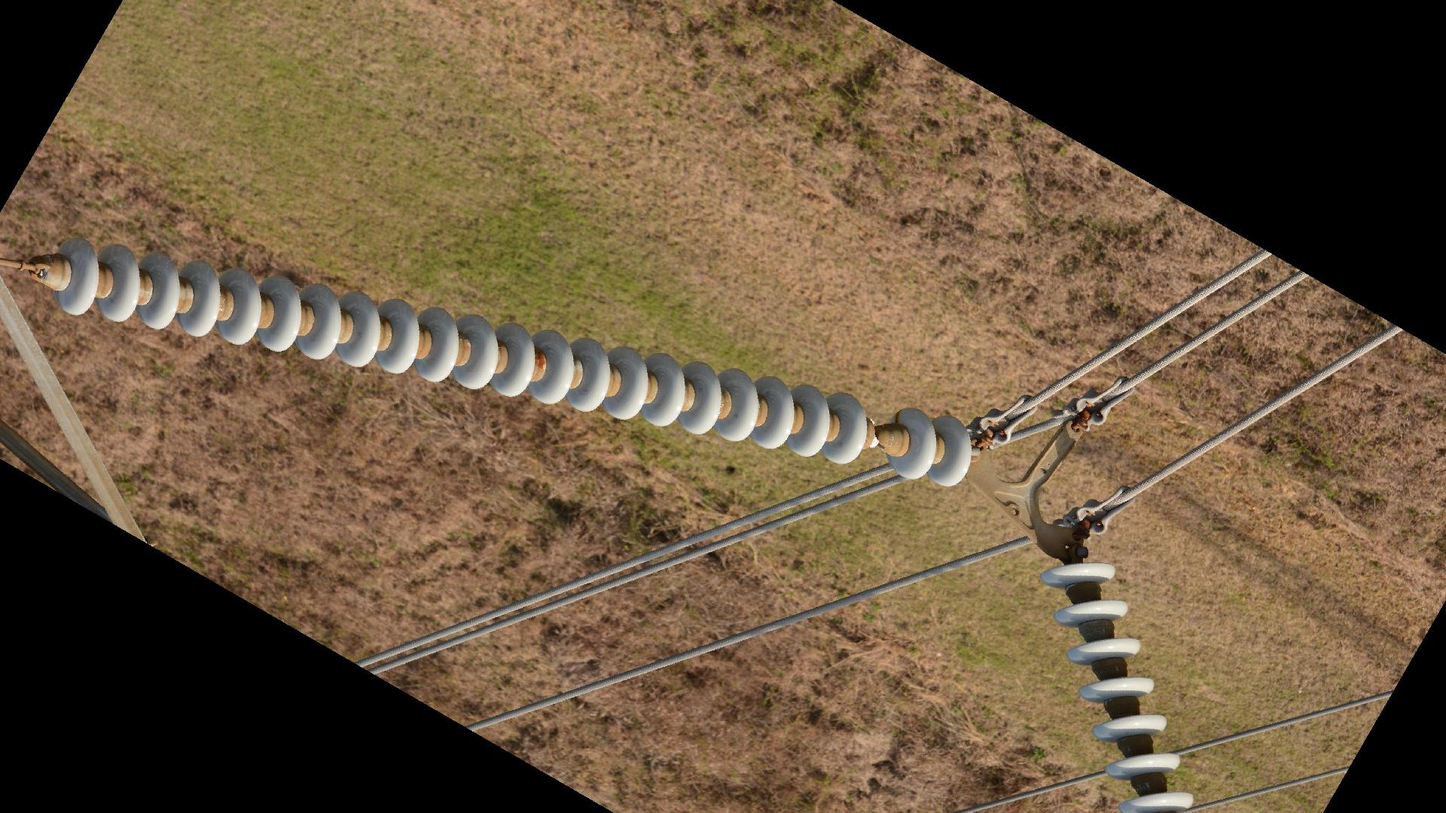insulator: (46, 230, 871, 472), (1036, 556, 1204, 813), (885, 404, 980, 491)
